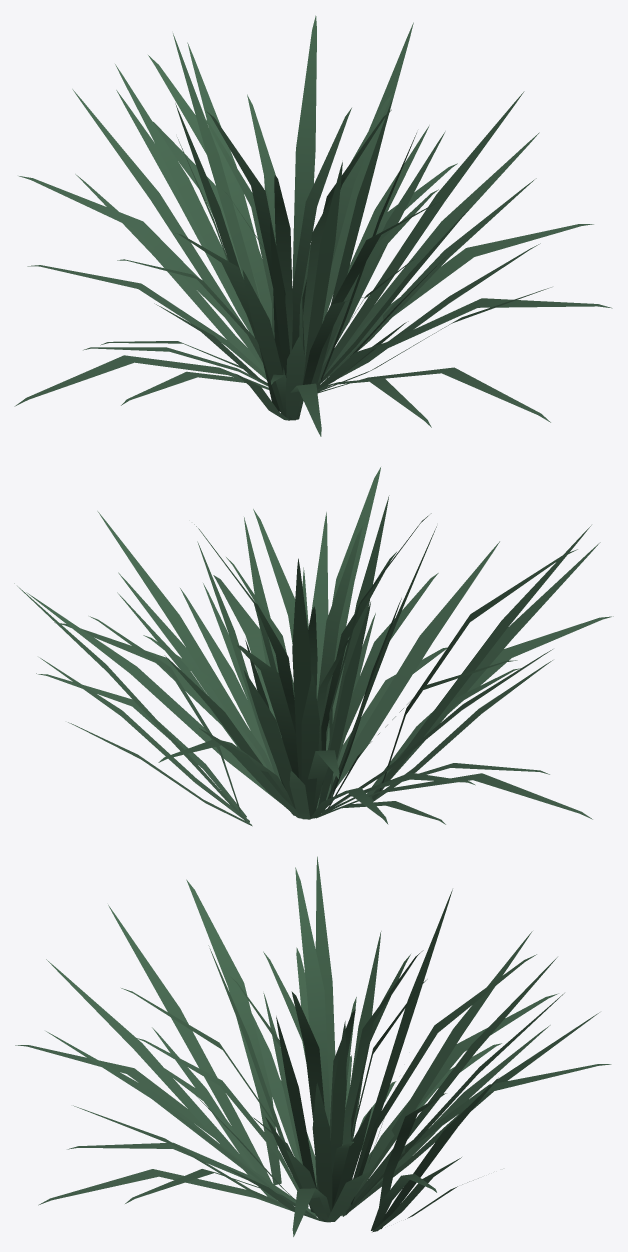
File: trees-grasses-spiky-grass-tuft_v1.glb
3 renders of one model, top to bottom at view 1: azimuth 30°, elevation 25°; view 2: azimuth 150°, elevation 25°; view 3: azimuth 270°, elevation 25°, orthographic. The views are drawn at different scales.
Parts seen in each view (by area): view 1: Spiky Grass Tuft_v1; view 2: Spiky Grass Tuft_v1; view 3: Spiky Grass Tuft_v1.
Part boxes in pixels (x1,y1,x2,y2): Spiky Grass Tuft_v1: (14,15,612,436); Spiky Grass Tuft_v1: (14,467,613,826); Spiky Grass Tuft_v1: (15,856,611,1236).
Bounding box in the file's own units: 0.4 × 0.2201 × 0.3934.
